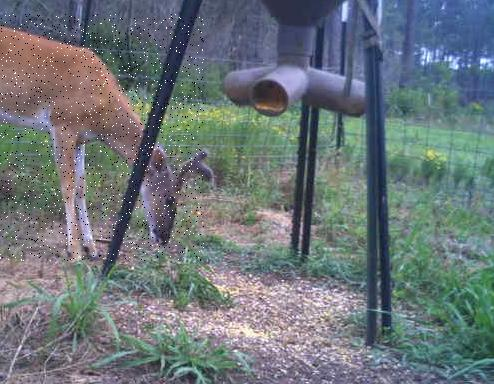Deer: (0, 14, 204, 261)
